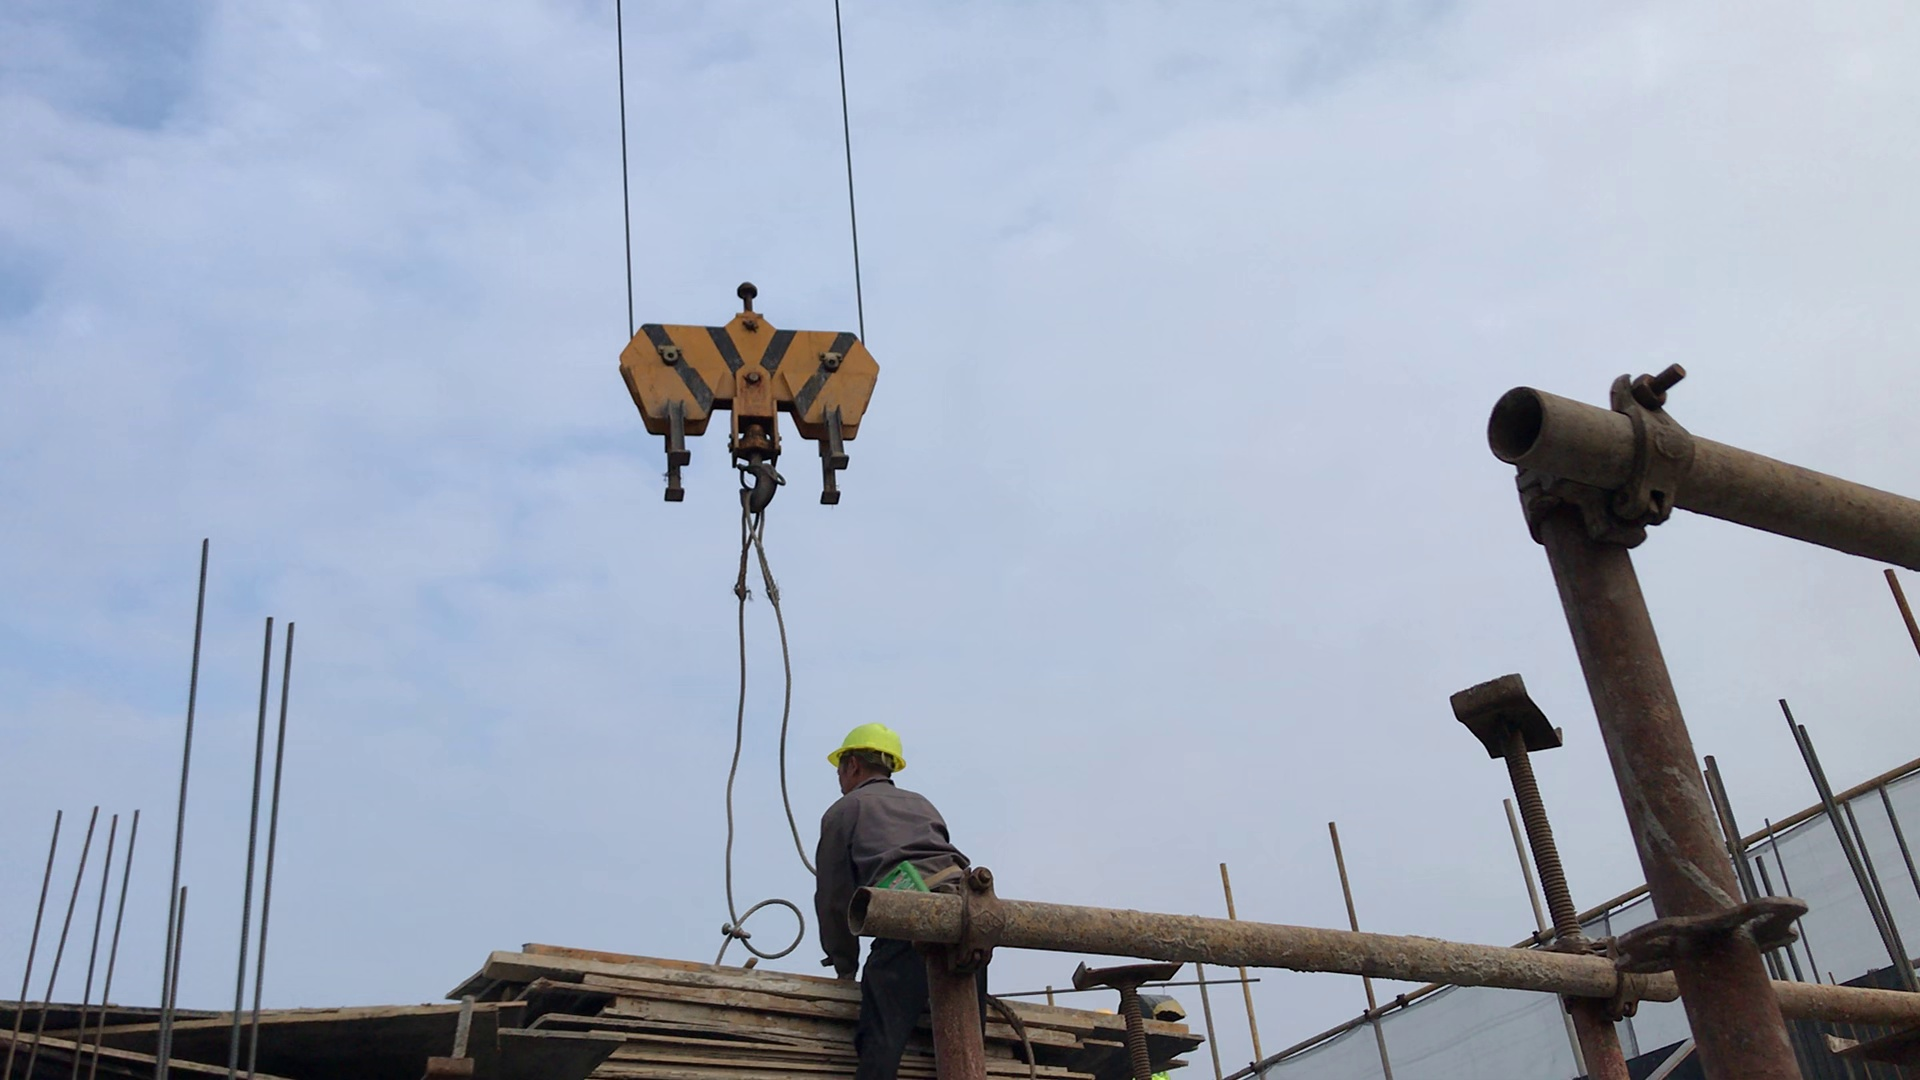board: (433, 934, 847, 1080)
hook: (618, 278, 882, 528)
person: (811, 717, 949, 1080)
